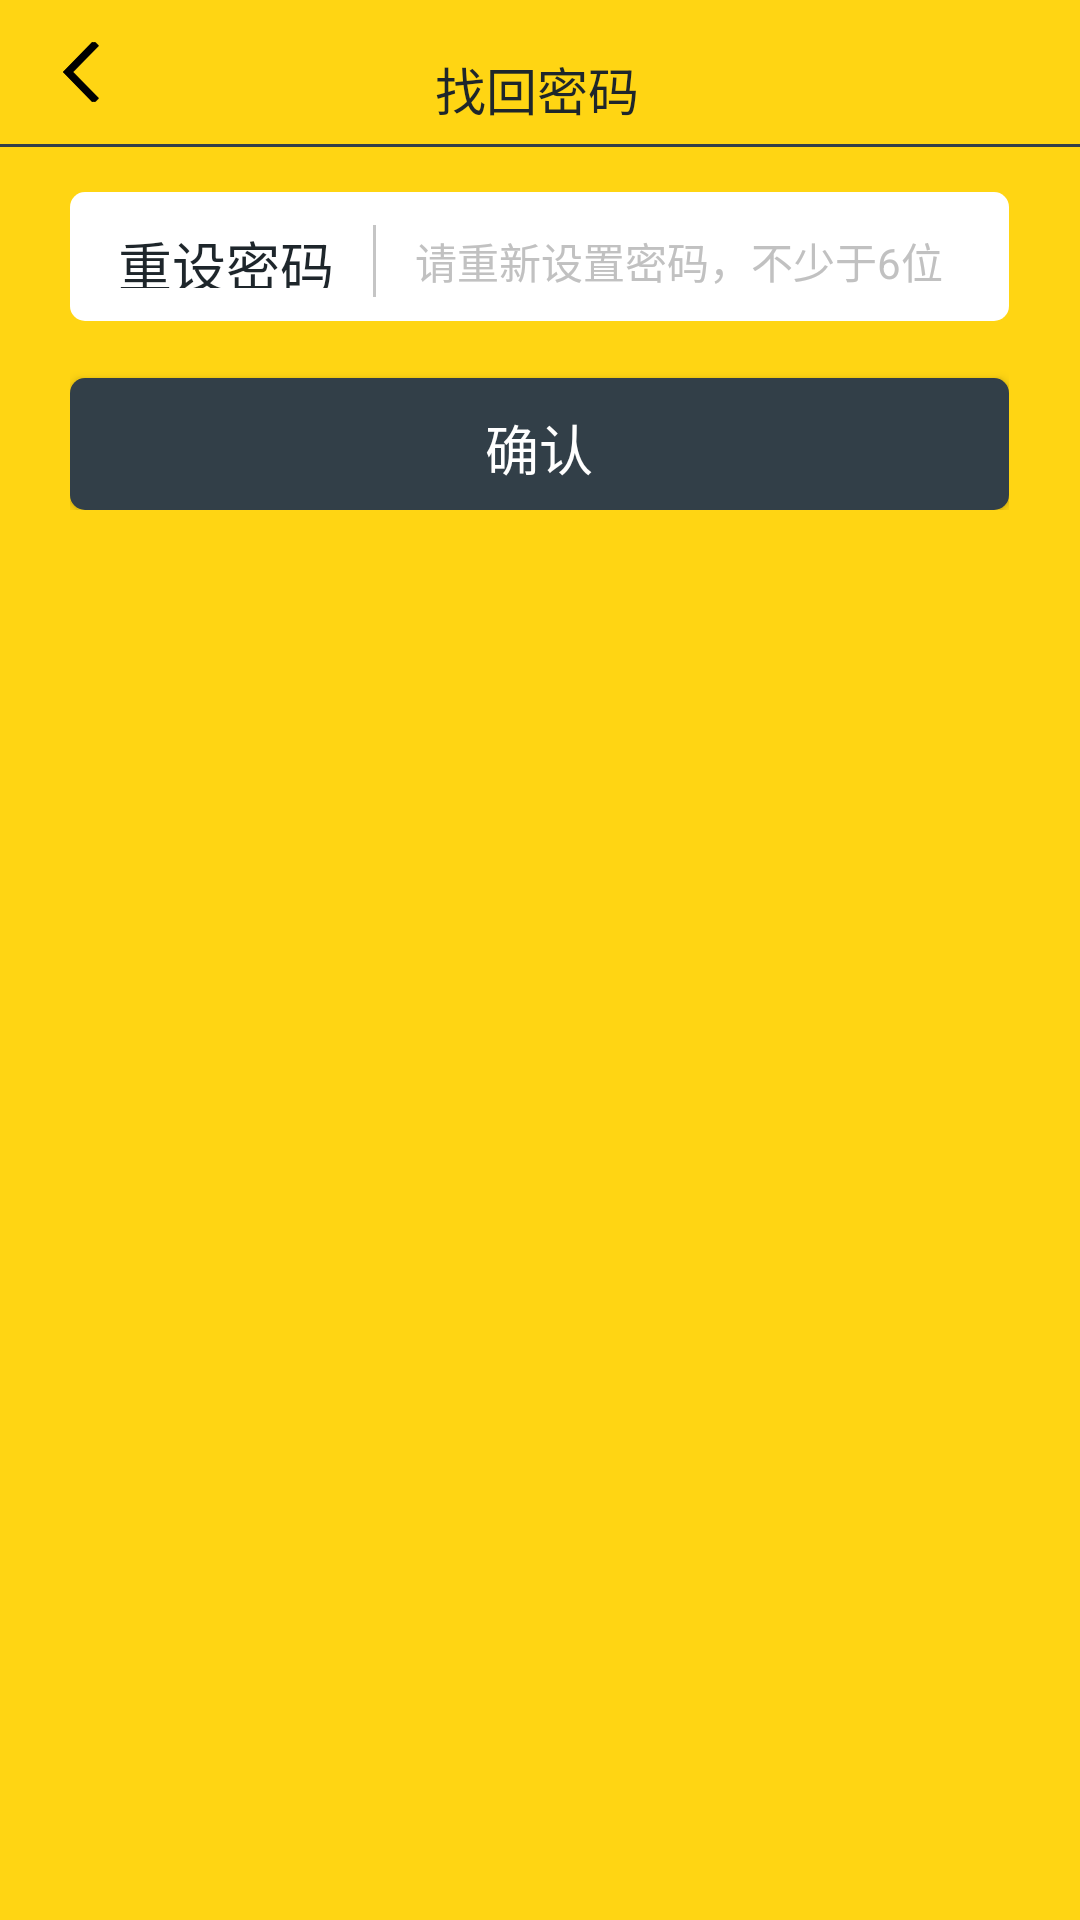

Where to tap for icons on this 1080×1920 app screen, as (x,y):
back: (81,72)
